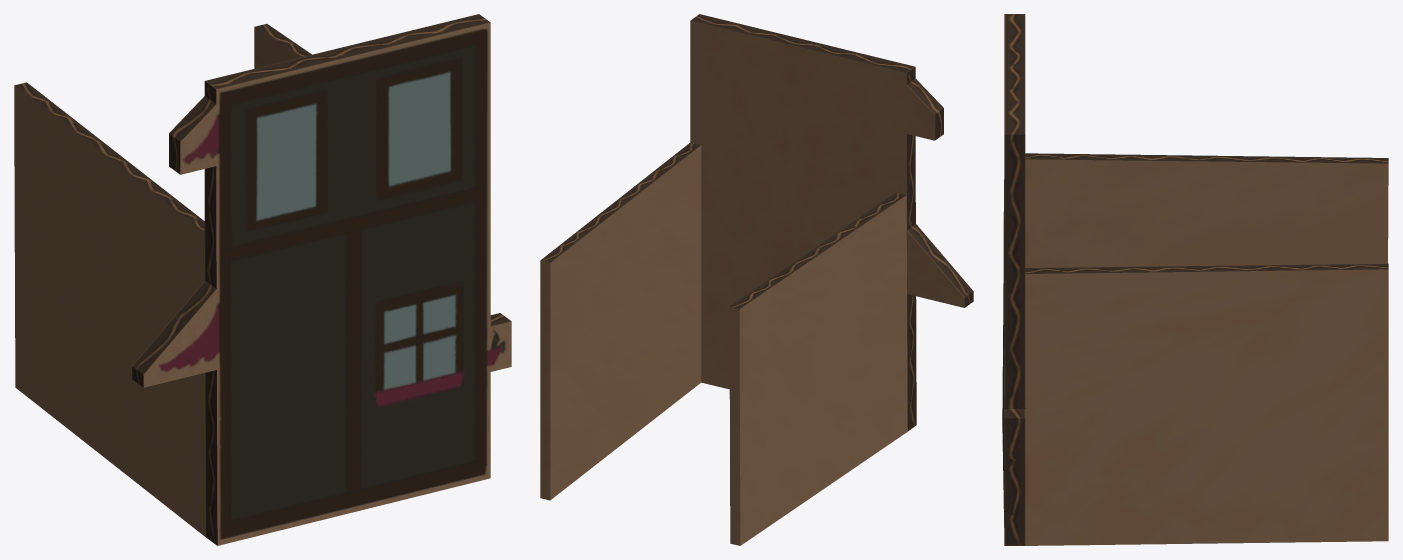
Rendered from House2_Box.fbx.
3 renders of one model, left to right at view 1: azimuth 30°, elevation 25°; view 2: azimuth 150°, elevation 25°; view 3: azimuth 270°, elevation 25°, orthographic. The views are drawn at different scales.
Visible parts, largest first — view 1: CB_House2; view 2: CB_House2; view 3: CB_House2.
Part boxes in pixels (left/top/right/bottom): CB_House2: left=14, top=14, right=511, bottom=545; CB_House2: left=540, top=14, right=973, bottom=545; CB_House2: left=1002, top=14, right=1388, bottom=545.
Bounding box in the file's own units: 4.03 × 4.76 × 4.06.
Materials: 1 (1 with a texture image).
